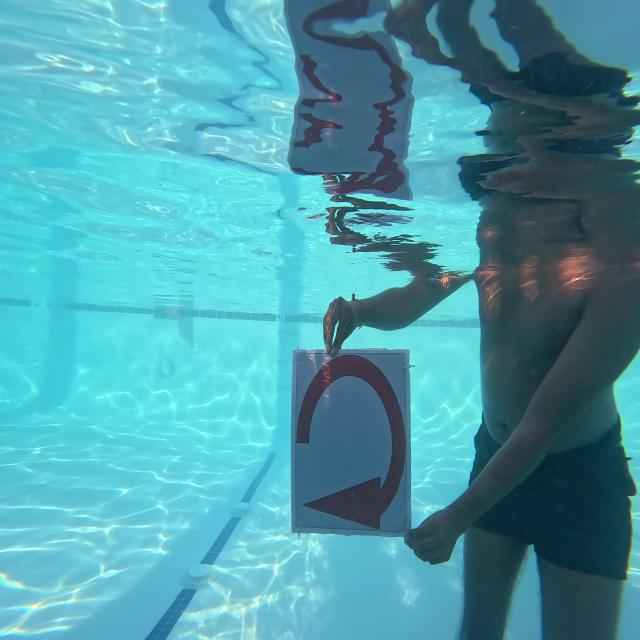red_side: (284, 336, 420, 554)
